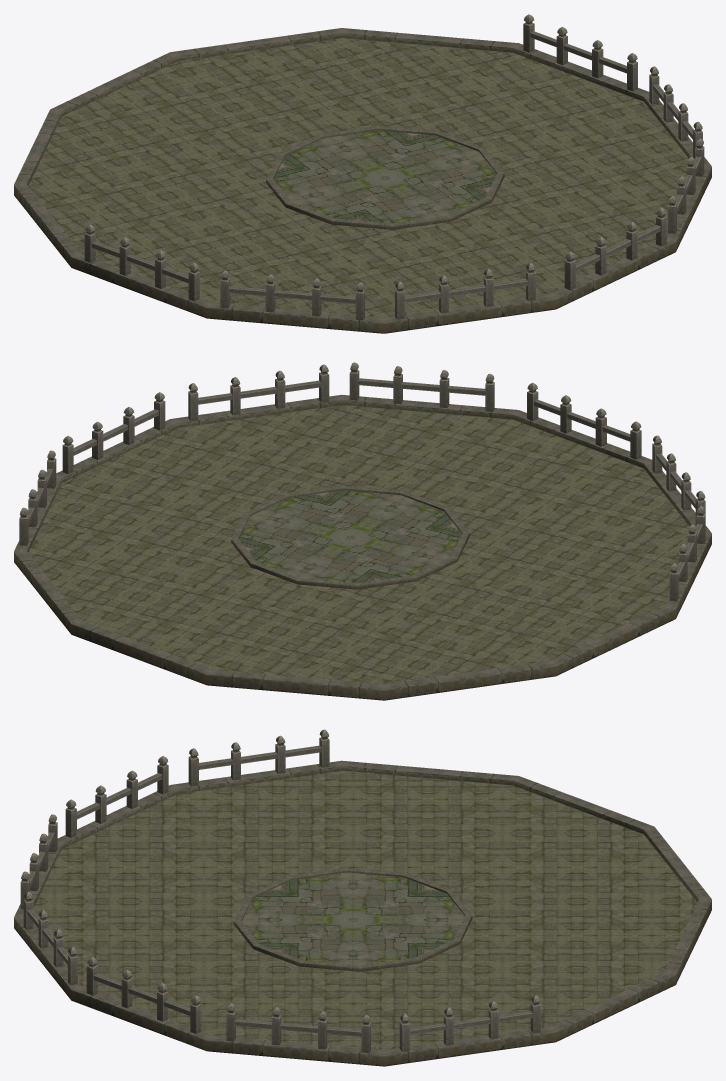
Rendered from THL1_13_1.FBX.
3 renders of one model, top to bottom at view 1: azimuth 30°, elevation 25°; view 2: azimuth 150°, elevation 25°; view 3: azimuth 270°, elevation 25°, orthographic.
Visible parts, largest first — view 1: polySurface47; view 2: polySurface47; view 3: polySurface47.
Part boxes in pixels (bbox=[...]): polySurface47: bbox=[14, 14, 711, 333]; polySurface47: bbox=[14, 362, 711, 700]; polySurface47: bbox=[14, 729, 711, 1066].
Bounding box in the file's own units: 33.19 × 2.48 × 33.19.
